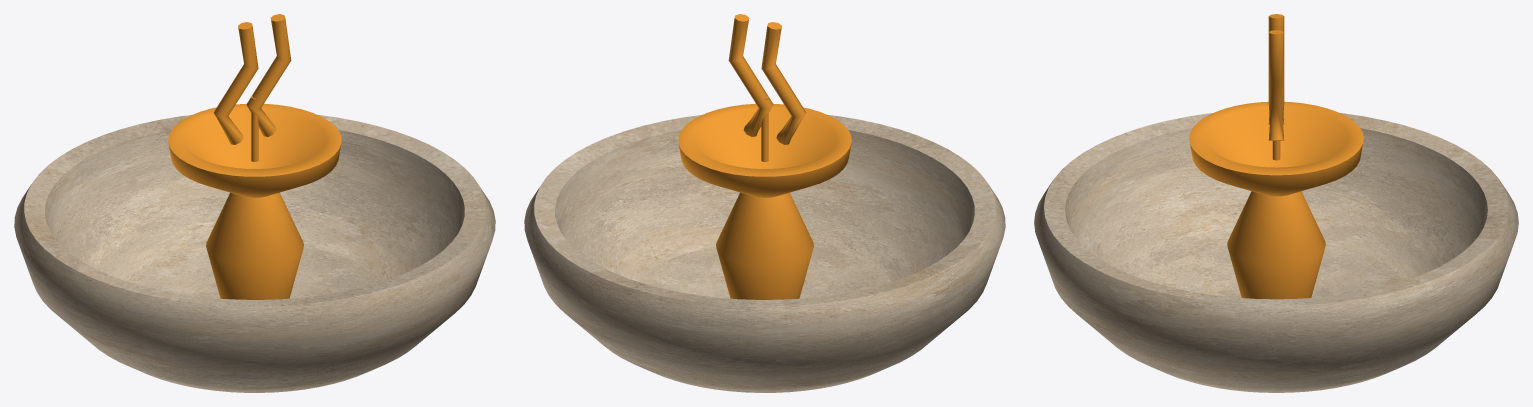
Rendered from 07_Fuente_Cuenco.obj.
3 renders of one model, left to right at view 1: azimuth 30°, elevation 25°; view 2: azimuth 150°, elevation 25°; view 3: azimuth 270°, elevation 25°, orthographic.
Visible parts, largest first — view 1: Cuencos_concavos, Remate_central; view 2: Cuencos_concavos, Remate_central; view 3: Cuencos_concavos, Remate_central.
Boxes of the visible parts, bbox=[...] form: Cuencos_concavos: bbox=[14, 103, 495, 392]; Remate_central: bbox=[213, 14, 291, 161]; Cuencos_concavos: bbox=[524, 103, 1005, 392]; Remate_central: bbox=[728, 14, 806, 161]; Cuencos_concavos: bbox=[1034, 101, 1518, 392]; Remate_central: bbox=[1268, 14, 1284, 160].
Size of the model in its own units: 3.44 by 2.41 by 3.44.
